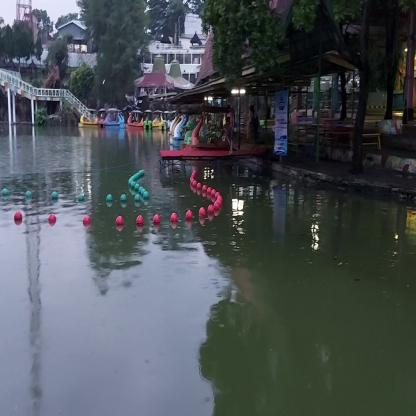green_buoy: (120, 194, 128, 205), (51, 191, 58, 202), (2, 189, 8, 198), (78, 193, 84, 202), (144, 192, 150, 200), (25, 192, 32, 198), (107, 195, 112, 203), (135, 195, 140, 203)
red_buoy: (199, 207, 206, 220), (14, 211, 22, 222), (152, 214, 160, 225), (83, 215, 91, 226), (186, 210, 193, 222), (136, 216, 144, 226), (171, 212, 178, 223), (48, 214, 56, 223), (208, 206, 214, 217), (116, 217, 123, 226), (207, 187, 213, 197), (214, 203, 219, 214), (216, 192, 221, 201), (212, 190, 216, 200)
